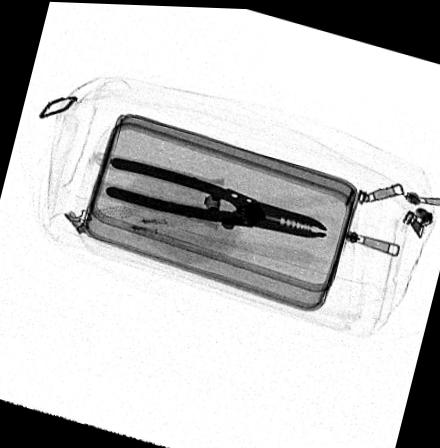Pliers: (102, 156, 329, 237)
